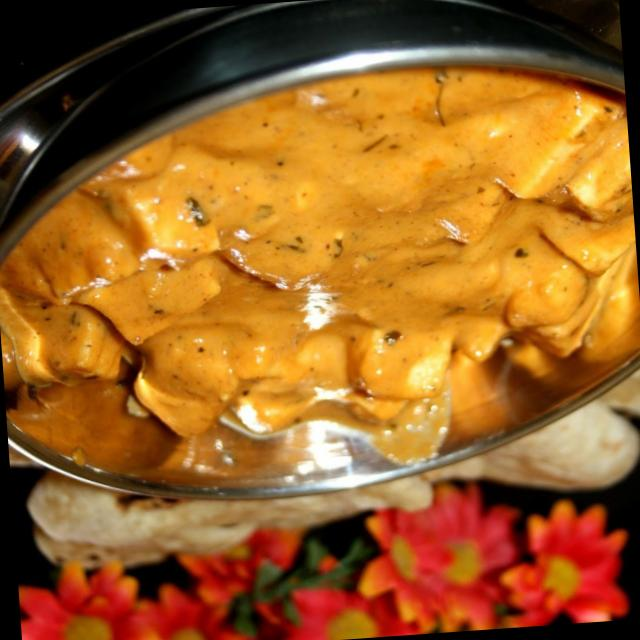ShahiPaneer: (0, 57, 640, 493)
